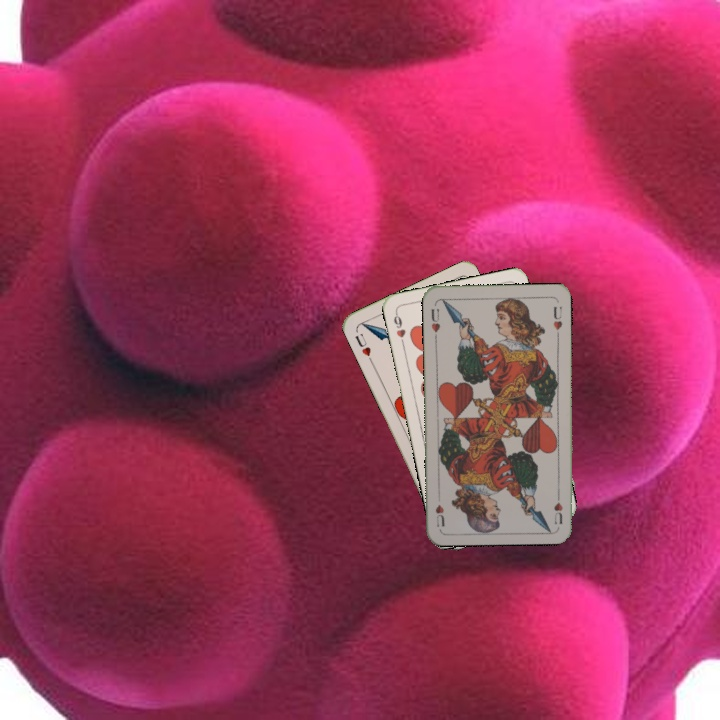H9: (390, 308, 408, 348)
HU: (351, 329, 373, 359), (550, 487, 565, 526), (427, 305, 442, 341)
